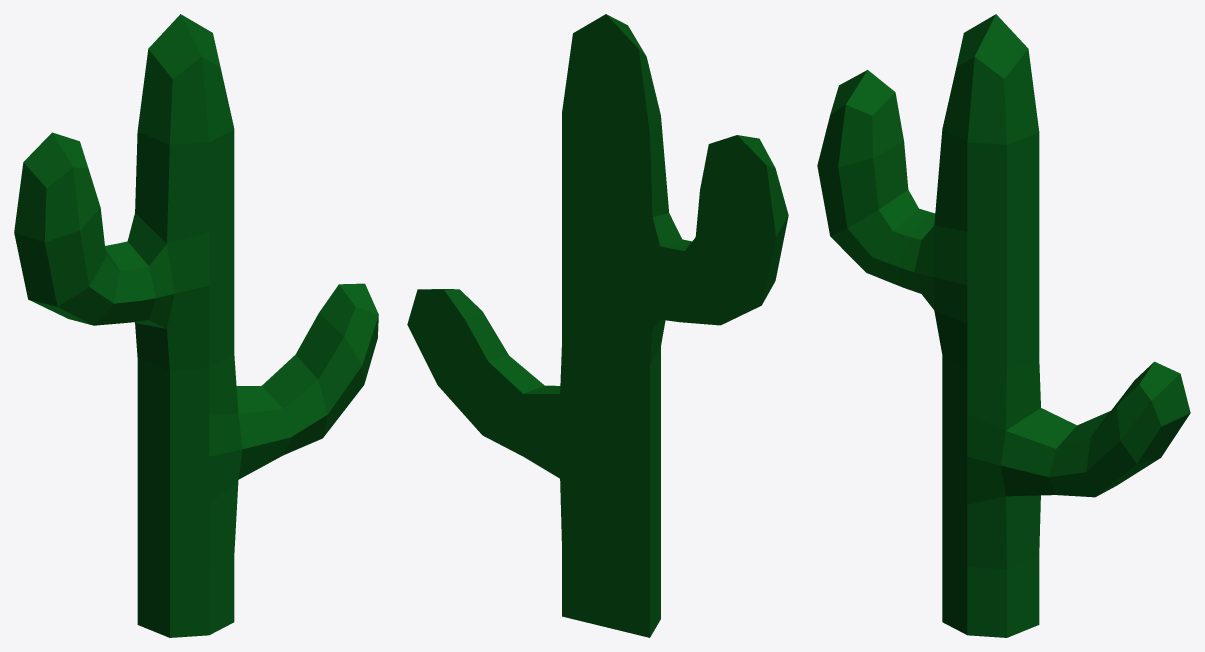
The model's file is Cactus.fbx.
3 renders of one model, left to right at view 1: azimuth 30°, elevation 25°; view 2: azimuth 150°, elevation 25°; view 3: azimuth 330°, elevation 25°, orthographic. The views are drawn at different scales.
Visible parts, largest first — view 1: pCube1; view 2: pCube1; view 3: pCube1.
Part boxes in pixels (box(x1,y1,x2,y2)): pCube1: box(14, 14, 378, 637); pCube1: box(407, 14, 788, 637); pCube1: box(817, 14, 1190, 637).
Bounding box in the file's own units: 3.63 × 5.77 × 0.5.
